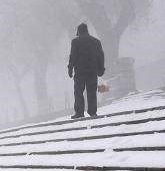person: (66, 22, 107, 119)
